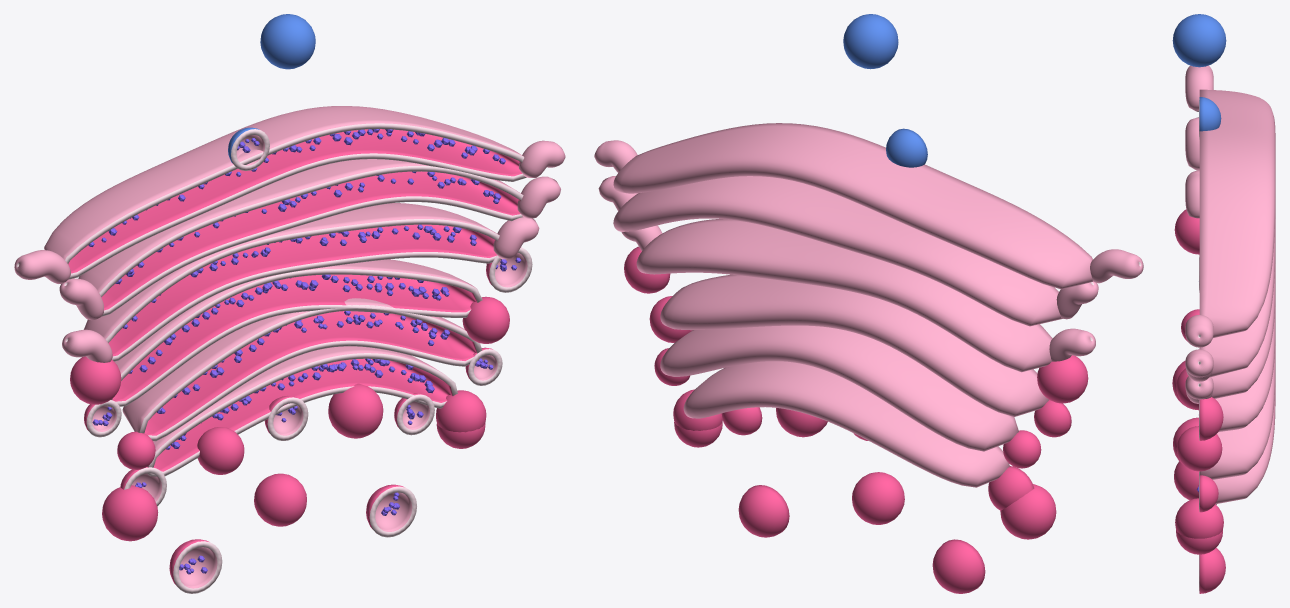
Rendered from golgi.glb.
3 views of the same model, side by side, from view 1: azimuth 30°, elevation 25°; view 2: azimuth 150°, elevation 25°; view 3: azimuth 270°, elevation 25° (orthographic). The views are drawn at different scales.
Visible parts, largest first — view 1: golgi_stack, golgi_vesicles, golgi_cargo; view 2: golgi_stack, golgi_vesicles; view 3: golgi_stack, golgi_vesicles.
Boxes of the visible parts, x1,y1,x2,y2 form: golgi_stack: [14, 106, 565, 476]; golgi_vesicles: [70, 14, 532, 593]; golgi_cargo: [88, 129, 521, 574]; golgi_stack: [594, 123, 1143, 487]; golgi_vesicles: [624, 14, 1088, 593]; golgi_stack: [1185, 65, 1275, 504]; golgi_vesicles: [1172, 14, 1226, 593].
Bounding box in the file's own units: 3.62 × 3.52 × 0.617.
